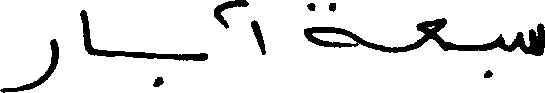أ: (249, 17, 264, 54)
ا: (80, 7, 92, 54)
ب: (137, 50, 208, 87), (482, 31, 503, 77)
ة: (303, 0, 358, 47)
ر: (0, 36, 56, 91)
س: (518, 21, 543, 57)
ع: (413, 12, 454, 46)
